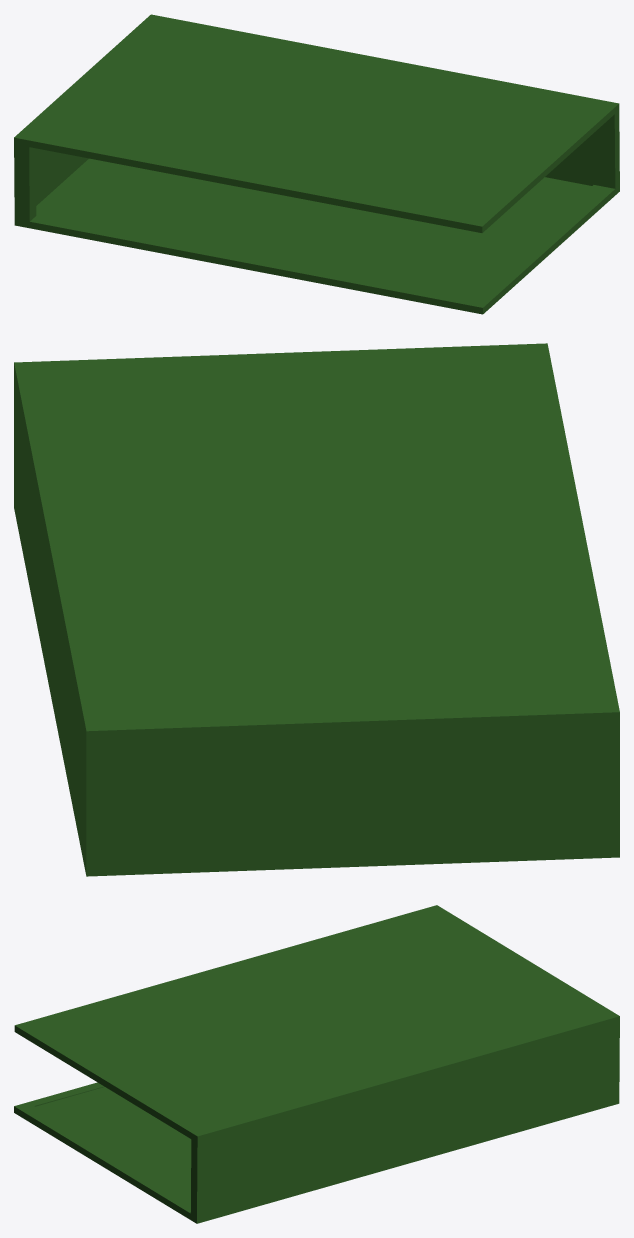
The model's file is book2_material.008_0_lev1.glb.
3 views of the same model, one above another, from view 1: azimuth 30°, elevation 25°; view 2: azimuth 150°, elevation 25°; view 3: azimuth 270°, elevation 25° (orthographic). The views are drawn at different scales.
Parts seen in each view (by area): view 1: book2_material.008_0_lev1; view 2: book2_material.008_0_lev1; view 3: book2_material.008_0_lev1.
Part boxes in pixels (<box>): book2_material.008_0_lev1: <box>14,14,619,314</box>; book2_material.008_0_lev1: <box>14,343,619,876</box>; book2_material.008_0_lev1: <box>14,905,619,1223</box>.
Bounding box in the file's own units: 23.01 × 4.15 × 25.02.
